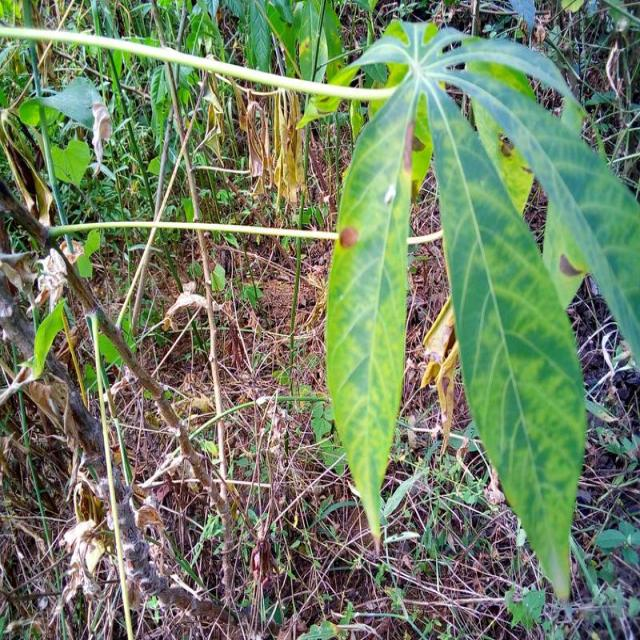cassava leaf: (318, 19, 636, 603), (422, 72, 588, 602), (324, 72, 418, 550)
